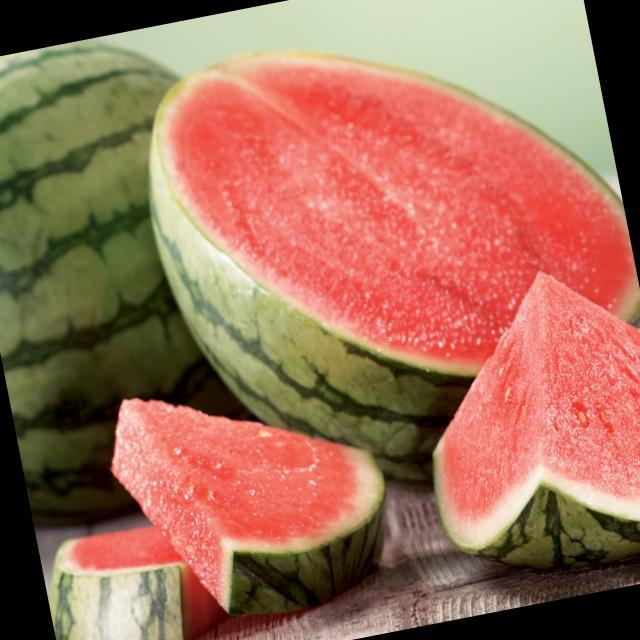WATERMELON: (130, 0, 640, 433), (0, 17, 286, 517), (104, 358, 397, 624), (401, 256, 640, 582), (32, 470, 222, 640)
